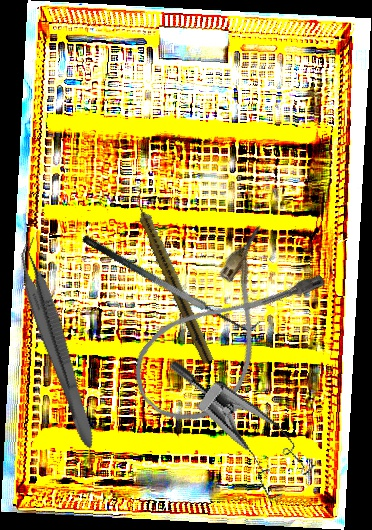Cannula: (117, 219, 332, 444)
Handpiece: (128, 191, 218, 365)
Spatula Surgical: (80, 220, 262, 344)
Speculum: (136, 357, 331, 512)
Tissue Forceps: (7, 234, 109, 452)
